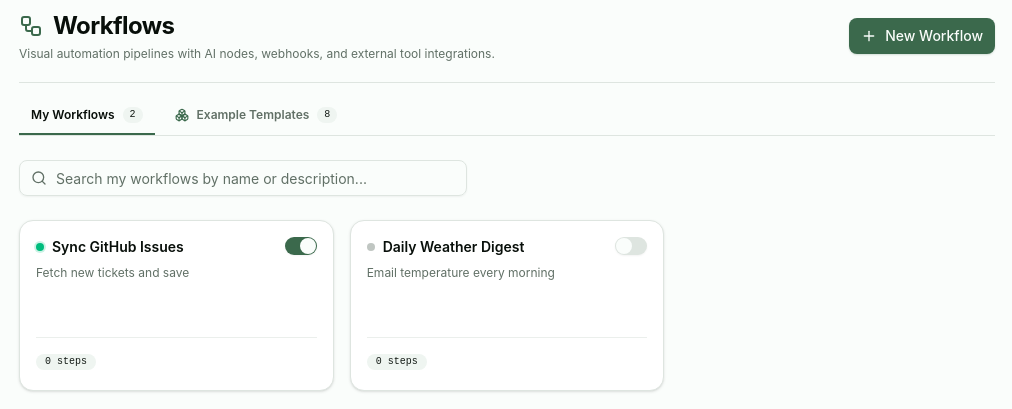
Test: WorkflowsPage › lists existing workflows and filters them via search
This screenshot has width=1012, height=409.
Expected: the heading "Sync GitHub Issues" is shown, [52,237,184,257]
Expected: the heading "Daily Weather Digest" is shown, [383,237,524,257]
Filter by "GitHub"
In the field with placeholder "Search my workflows by name or description...": (243, 178) [19,160,467,196], type "GitHub"
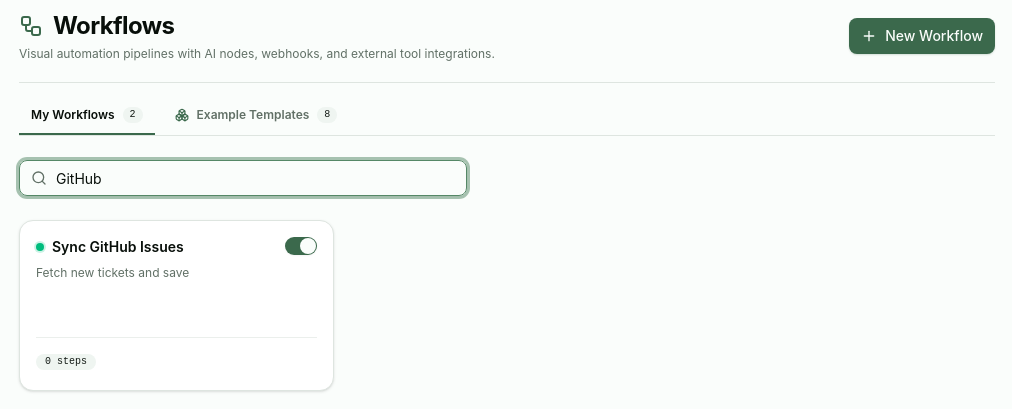
Expected: the heading "Sync GitHub Issues" is shown, [52,237,184,257]
Expected: the heading "Daily Weather Digest" is gone
